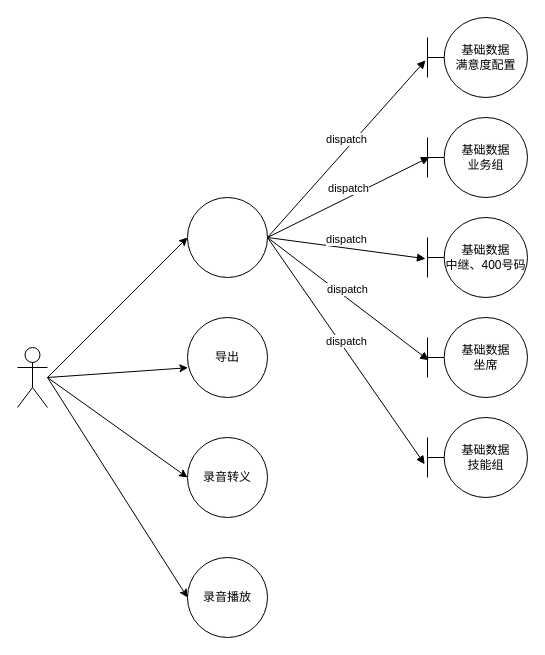
Image size: 545x655. Some labels were removed from this diagram. The box of each missing label's shape, as (x1, y1, x2, y2) in pixels:
Actor: (16, 346, 48, 408)
录音列表: (186, 196, 268, 278)
